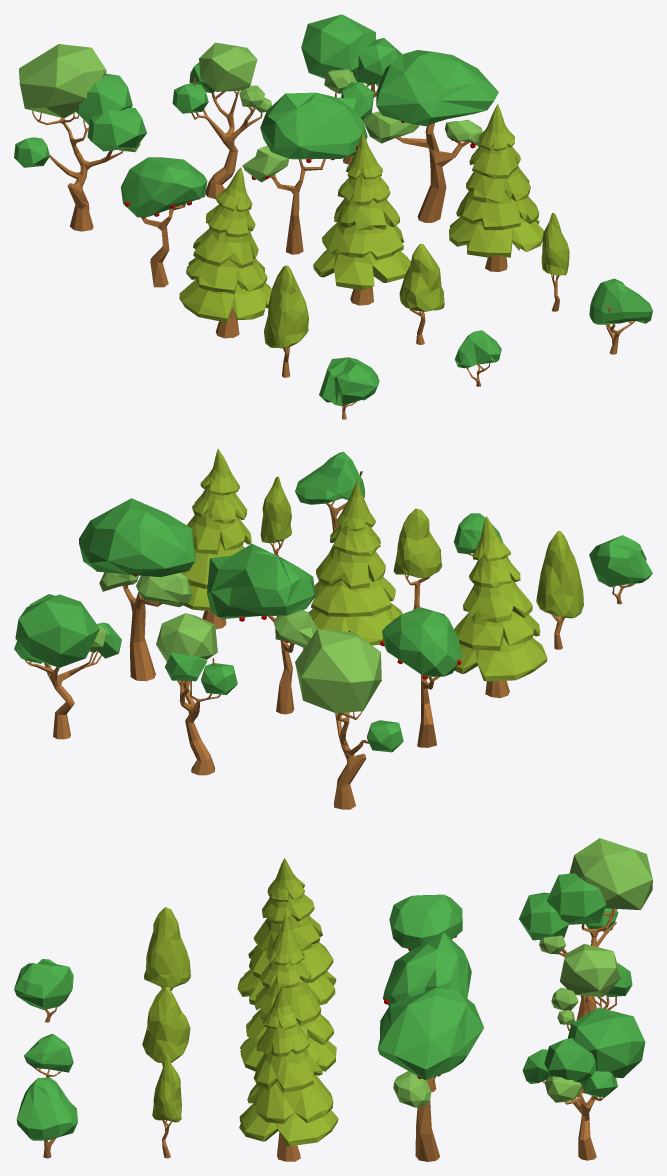
File: low_poly_tree_set.glb
3 views of the same model, one above another, from view 1: azimuth 30°, elevation 25°; view 2: azimuth 150°, elevation 25°; view 3: azimuth 270°, elevation 25° (orthographic). The views are drawn at different scales.
Parts seen in each view (by area): view 1: Lowpoly_Tree_15, Lowpoly_Tree_06, Lowpoly_Tree_07, Lowpoly_Tree_08, Lowpoly_Tree_09, Lowpoly_Tree_05, Lowpoly_Tree_02, Lowpoly_Tree_01, Lowpoly_Tree_04, Lowpoly_Tree_10, Lowpoly_Tree_14, Lowpoly_Tree_03 (+3 smaller); view 2: Lowpoly_Tree_06, Lowpoly_Tree_07, Lowpoly_Tree_05, Lowpoly_Tree_08, Lowpoly_Tree_15, Lowpoly_Tree_02, Lowpoly_Tree_01, Lowpoly_Tree_09, Lowpoly_Tree_04, Lowpoly_Tree_10, Lowpoly_Tree_03, Lowpoly_Tree_14 (+3 smaller); view 3: Lowpoly_Tree_09, Lowpoly_Tree_06, Lowpoly_Tree_15, Lowpoly_Tree_02, Lowpoly_Tree_08, Lowpoly_Tree_07, Lowpoly_Tree_05, Lowpoly_Tree_01, Lowpoly_Tree_04, Lowpoly_Tree_14, Lowpoly_Tree_10, Lowpoly_Tree_03 (+3 smaller).
Part boxes in pixels (x1,y1,x2,y2): Lowpoly_Tree_15: (14, 44, 146, 231); Lowpoly_Tree_06: (363, 50, 498, 222); Lowpoly_Tree_07: (179, 167, 271, 338); Lowpoly_Tree_08: (313, 131, 410, 305); Lowpoly_Tree_09: (449, 104, 543, 271); Lowpoly_Tree_05: (242, 92, 367, 254); Lowpoly_Tree_02: (301, 14, 402, 164); Lowpoly_Tree_01: (172, 42, 271, 198); Lowpoly_Tree_04: (120, 157, 207, 287); Lowpoly_Tree_10: (264, 265, 308, 377); Lowpoly_Tree_14: (589, 278, 652, 354); Lowpoly_Tree_03: (399, 243, 444, 344); Lowpoly_Tree_06: (79, 498, 195, 681); Lowpoly_Tree_07: (454, 516, 547, 698); Lowpoly_Tree_05: (207, 543, 317, 714); Lowpoly_Tree_08: (308, 479, 402, 645); Lowpoly_Tree_15: (295, 629, 403, 809); Lowpoly_Tree_02: (14, 594, 121, 739); Lowpoly_Tree_01: (156, 613, 237, 775); Lowpoly_Tree_09: (181, 448, 251, 629); Lowpoly_Tree_04: (380, 607, 461, 747); Lowpoly_Tree_10: (536, 531, 583, 649); Lowpoly_Tree_03: (393, 508, 442, 609); Lowpoly_Tree_14: (295, 451, 364, 531); Lowpoly_Tree_09: (239, 985, 338, 1161); Lowpoly_Tree_06: (377, 988, 483, 1161); Lowpoly_Tree_15: (519, 838, 652, 1019); Lowpoly_Tree_02: (522, 1007, 645, 1160); Lowpoly_Tree_08: (240, 913, 336, 1071); Lowpoly_Tree_07: (237, 858, 336, 1005); Lowpoly_Tree_05: (383, 932, 471, 1091); Lowpoly_Tree_01: (551, 943, 632, 1093); Lowpoly_Tree_04: (389, 894, 462, 951); Lowpoly_Tree_14: (16, 1077, 77, 1158); Lowpoly_Tree_10: (144, 907, 190, 990); Lowpoly_Tree_03: (142, 987, 190, 1066).
Size of the model in its own units: 4.66 by 1.94 by 6.39.
